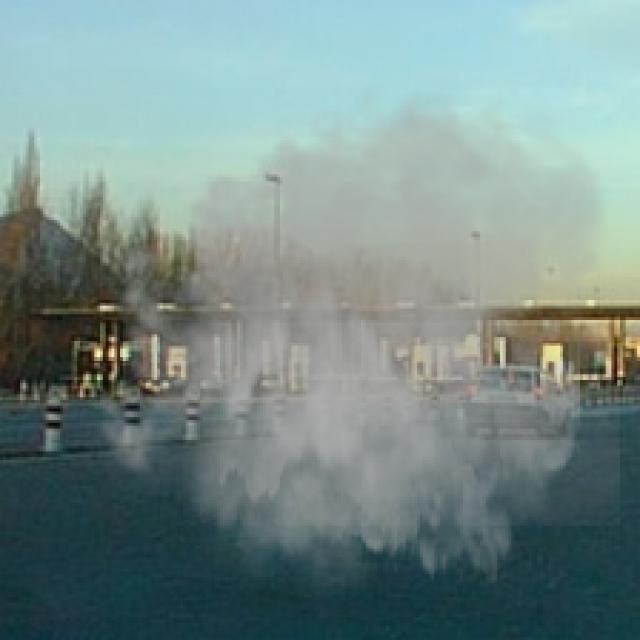Smoke: (80, 74, 620, 620)
